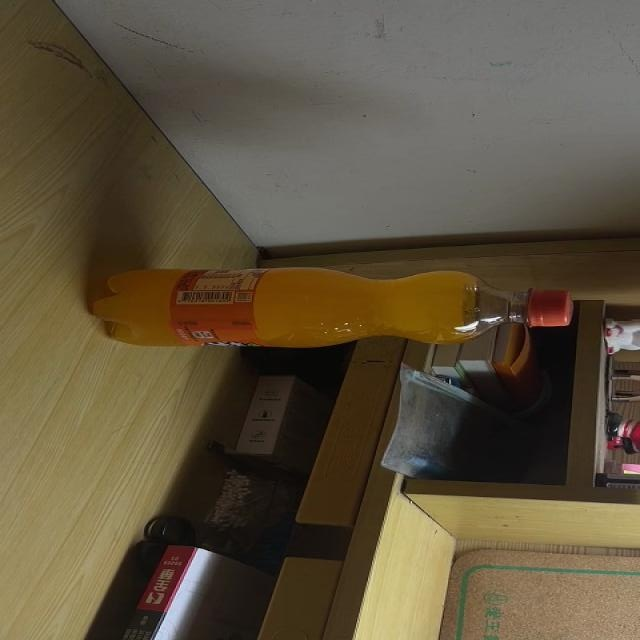Fanta: (92, 268, 573, 349)
